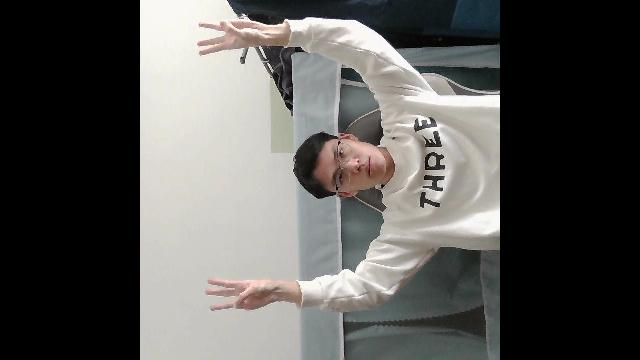three: (203, 273, 284, 313), (194, 17, 276, 56)
